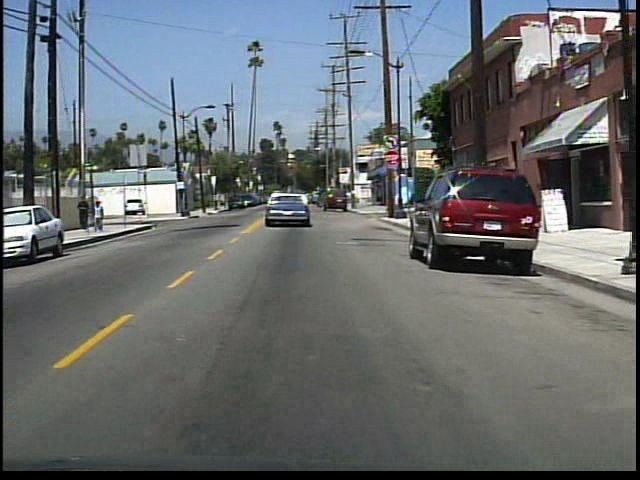person: (77, 193, 94, 234), (93, 200, 108, 234)
